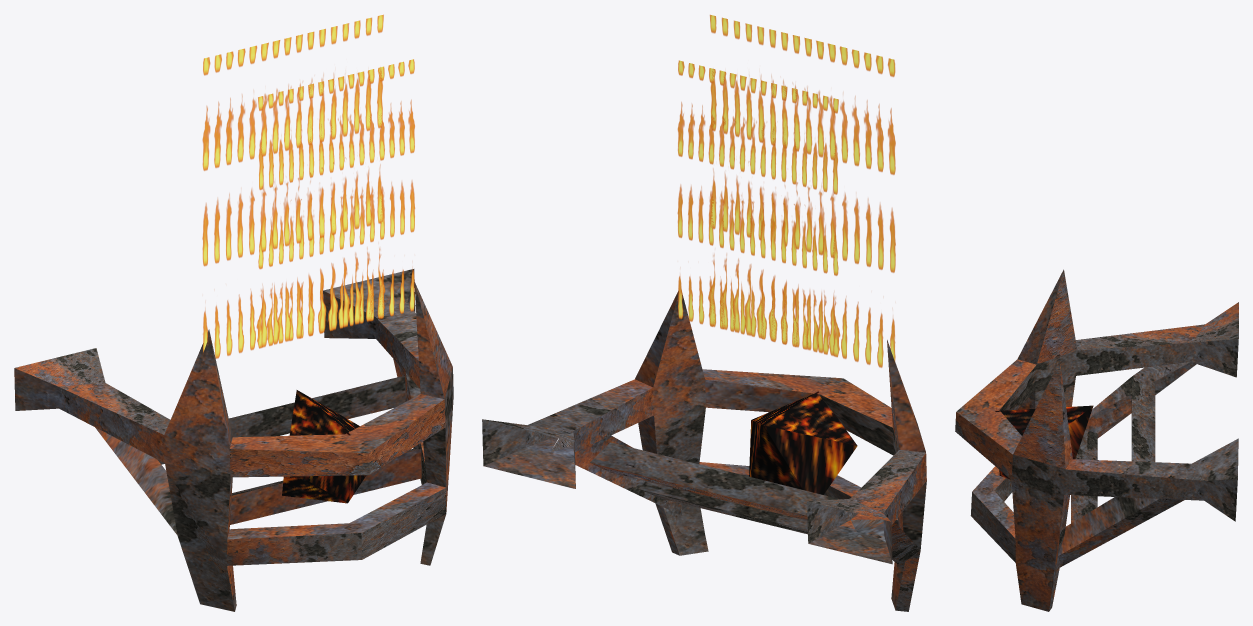
Rendered from mm9_deco_sconce1.glb.
The picture shows the model from 3 angles, left to right: view 1: azimuth 30°, elevation 25°; view 2: azimuth 150°, elevation 25°; view 3: azimuth 270°, elevation 25°; orthographic projection. The views are drawn at different scales.
Visible parts, largest first — view 1: Sconce1; view 2: Sconce1; view 3: Sconce1.
Part boxes in pixels (bbox=[...]): Sconce1: bbox=[14, 14, 453, 611]; Sconce1: bbox=[482, 15, 926, 611]; Sconce1: bbox=[955, 269, 1238, 611].
Size of the model in its own units: 0.6436 by 0.8331 by 0.431.
Materials: 3 (3 with a texture image).
